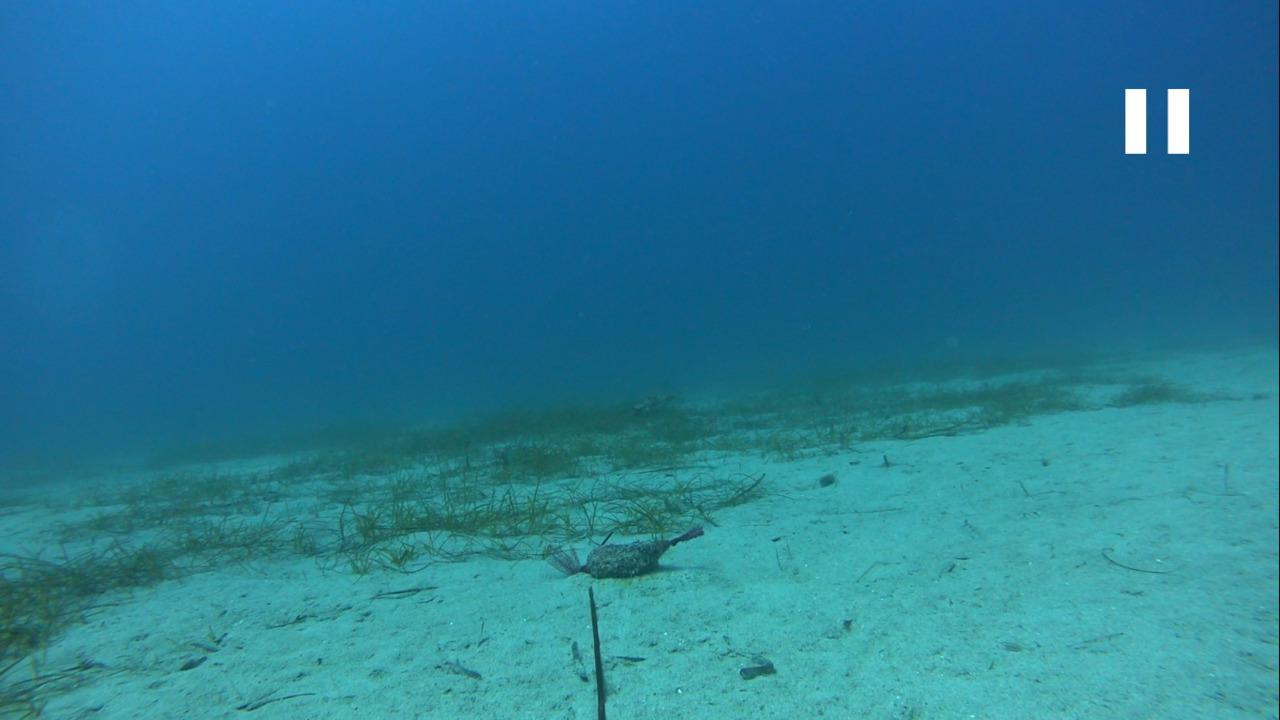dactylopterus: (623, 378, 681, 419)
